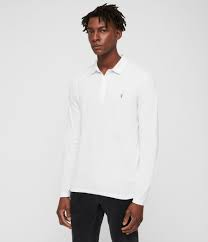S_polo shirt: (45, 48, 162, 207)
